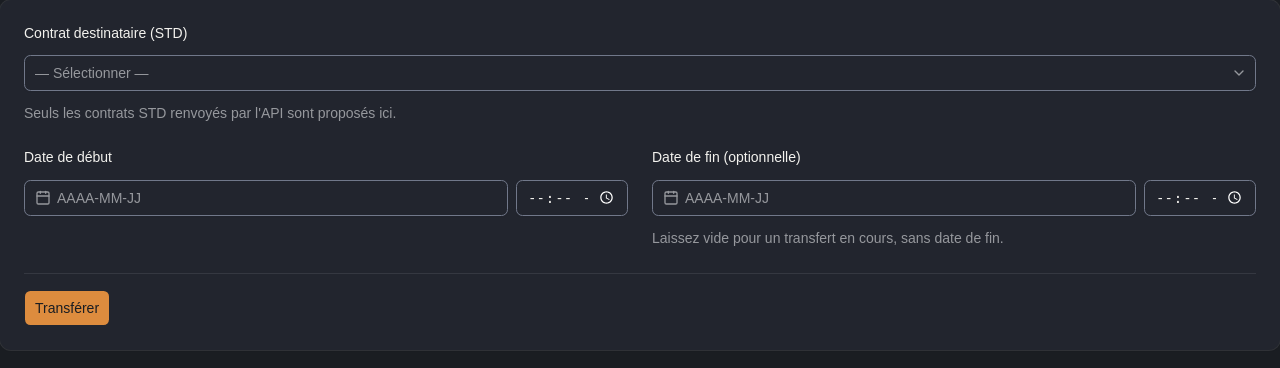
TransferForm (KAN-169 FR14-FR17) › requires a start date (FR15, CB23)
The width and height of the screenshot is (1280, 368).
Click the dropdown with test id "transfer-field-target".
click(92, 73)  # box 24,55 -> 1256,91
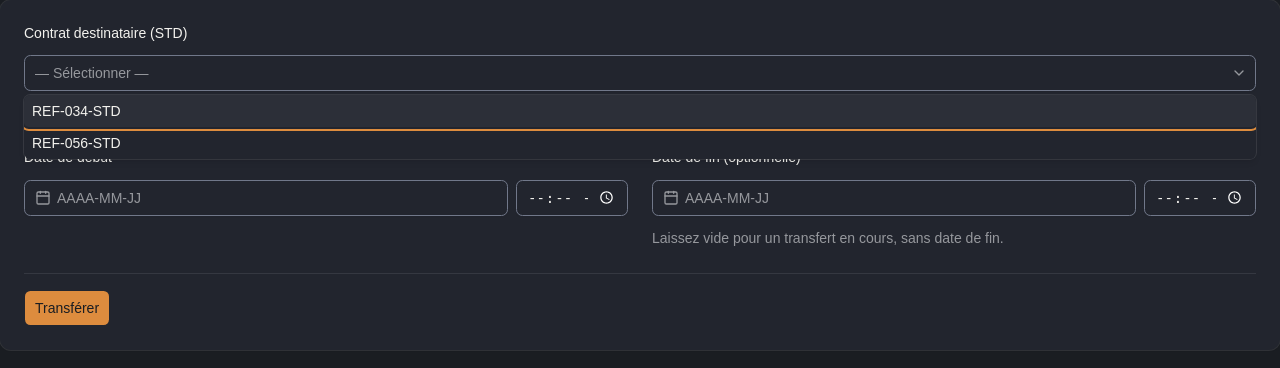
Click the option with test id "transfer-target-option-34".
click(76, 111)  # box 24,95 -> 1256,127
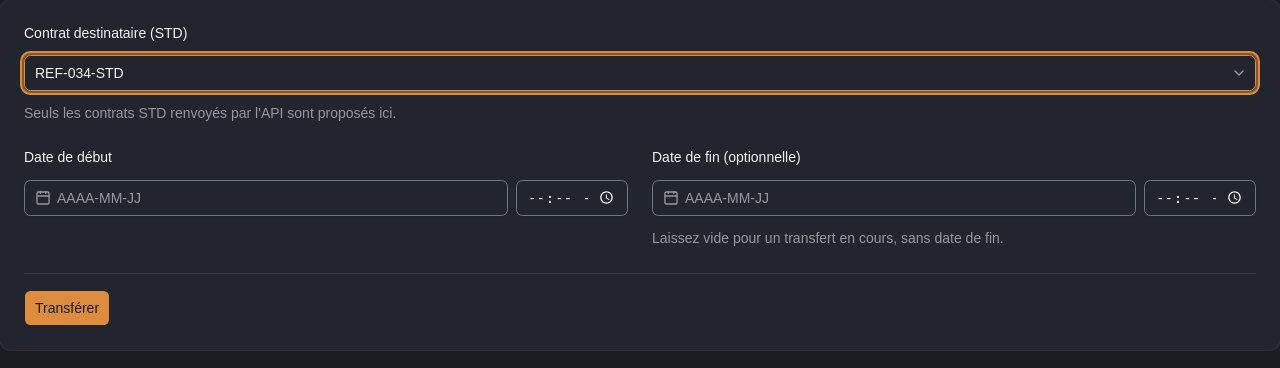
Click the button with test id "transfer-form-submit".
click(67, 308)  # box 24,290 -> 110,326
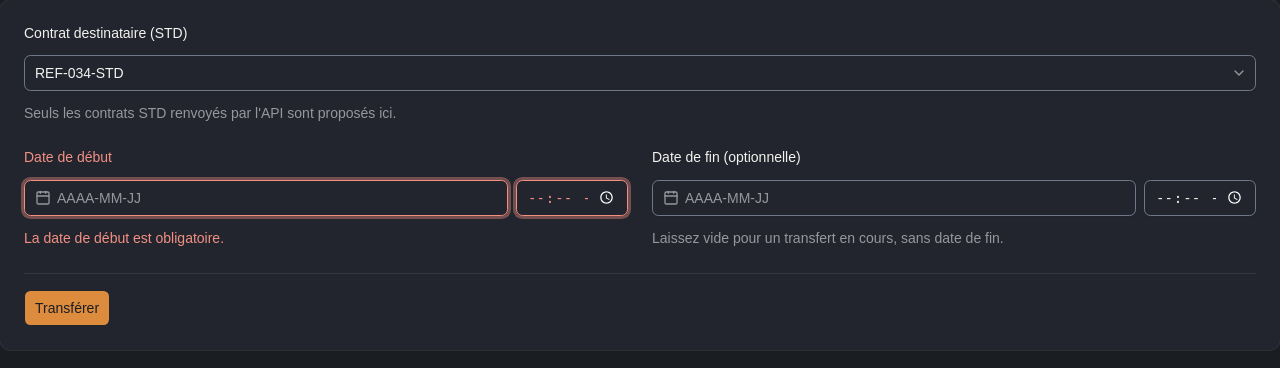
Result: the message with test id "transfer-field-startDate-error" reads "La date de début est obligatoire." at 24,230 -> 224,246
